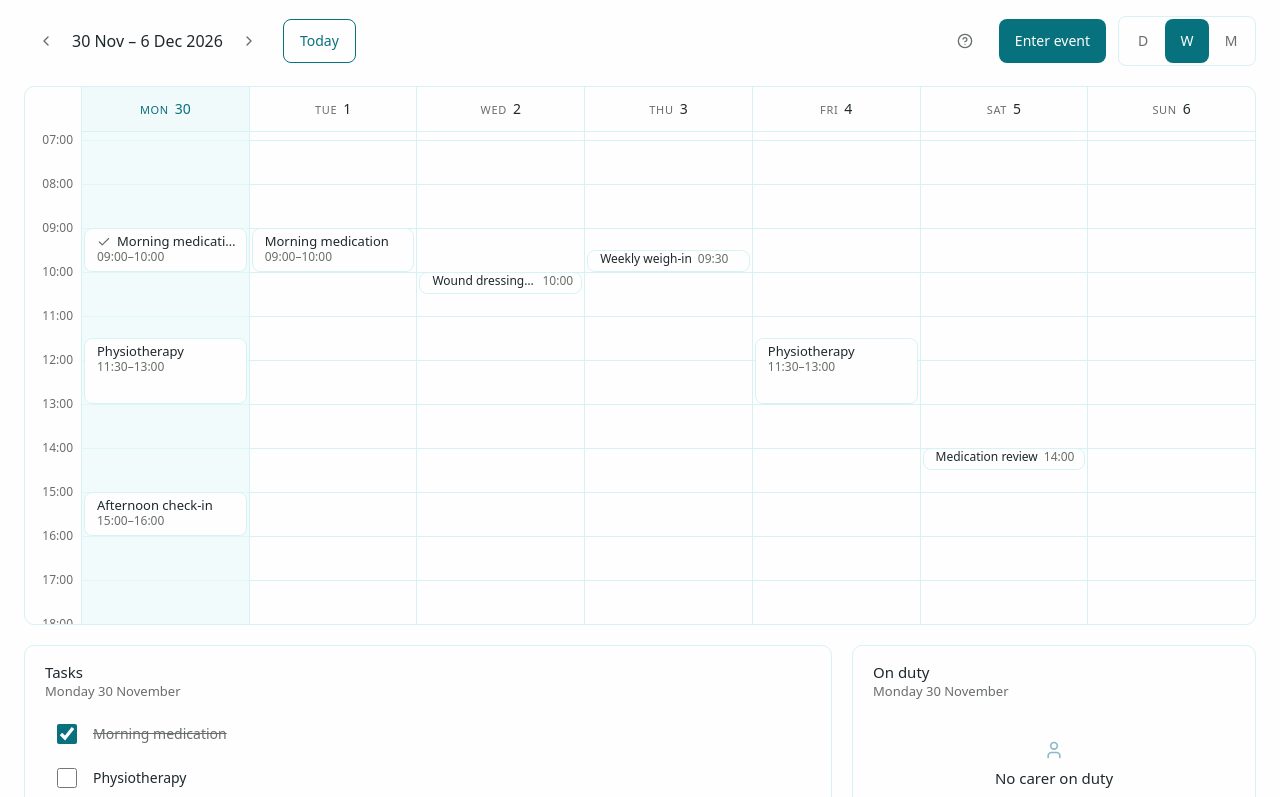
Test: [FAM-UI-02][AC-03] Tasks panel › [FAM-UI-02][AC-03] a day with nothing on it says so
The image size is (1280, 797).
(page scrolled)
Step 1. Click the button with test id "week-grid-header-2026-12-06" → [1171, 109], box [1087,87,1255,131]
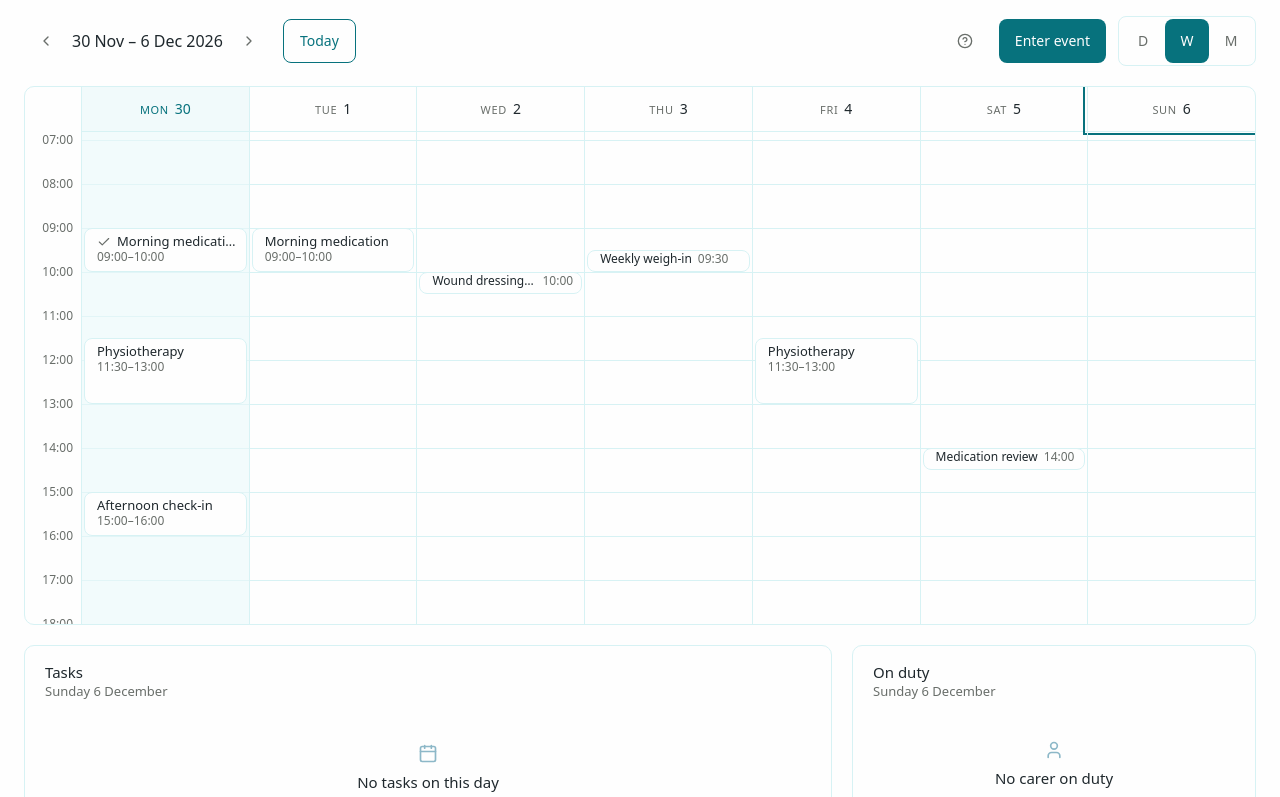
Expected: the 1st text "Sunday 6 December" is shown, [45,682,168,700]
Expected: no checkboxes are shown
Expected: the text "No tasks on this day" is shown, [357,772,499,792]
